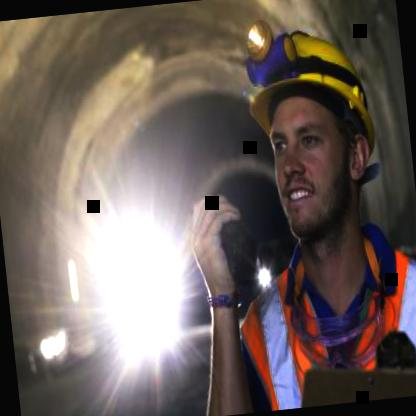helmet: (225, 3, 393, 272)
